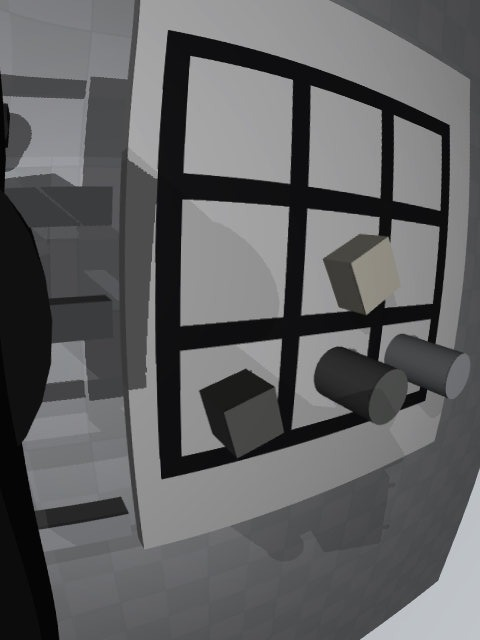can: (384, 334, 471, 399)
cube: (200, 369, 284, 458)
cylinder: (314, 347, 408, 425)
foam: (323, 234, 401, 316)
